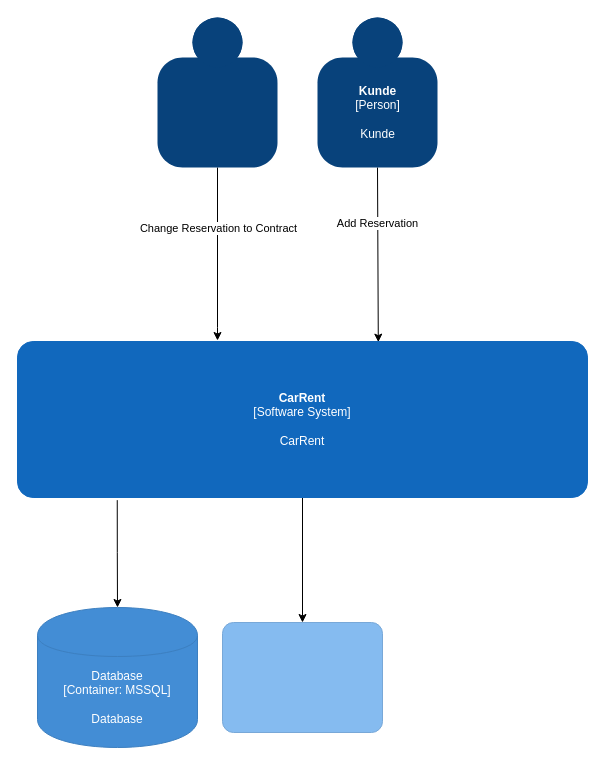
The diagram is 605 pixels wide and 765 high, and some of its shapes have lost their labels. The shapes that lost their labels are listed below. From the top down, each one's centre as x and y in pixels, then its label:
the point at 217,92: Vermieter [Person] Vermieter
the point at 302,677: GitHub [Component: Git ] GitHub
